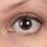eye: (19, 19, 32, 30)
